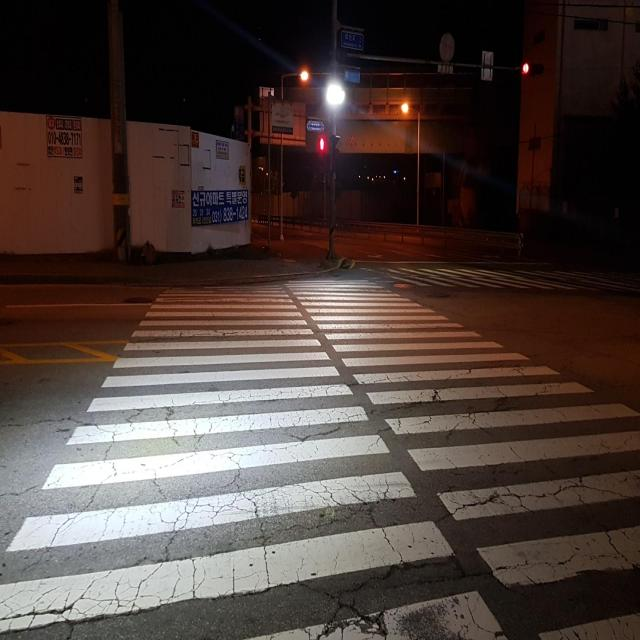빨간불: (314, 131, 325, 175)
횡단보도: (0, 274, 638, 640)
